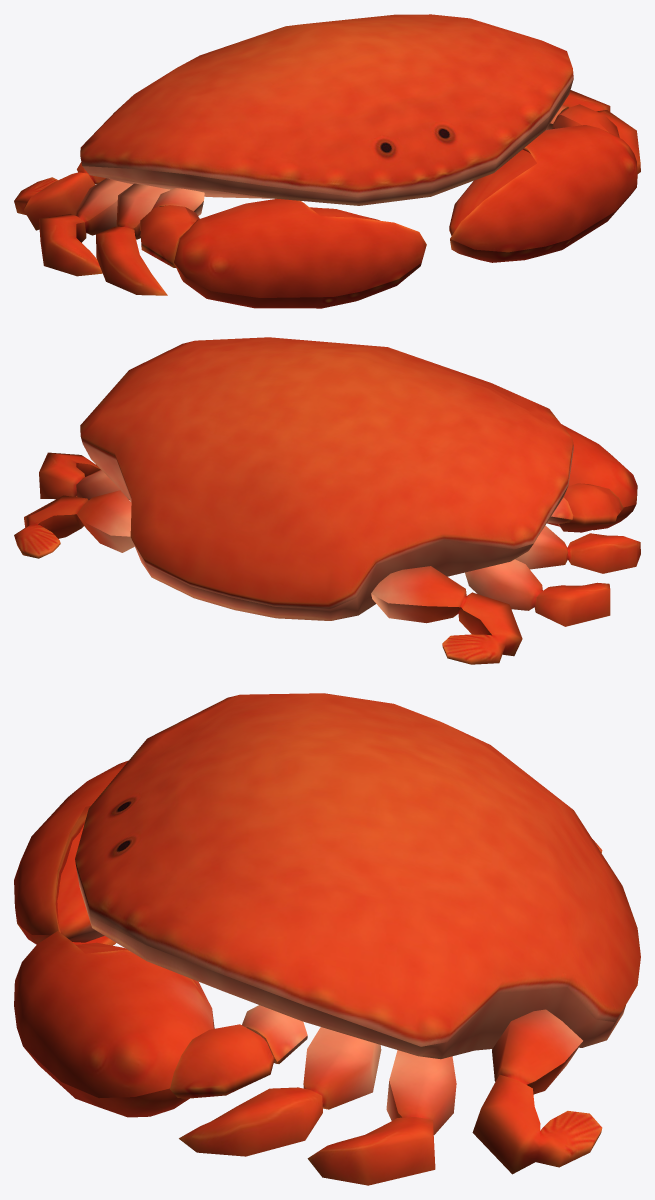
Rendered from SteamCrab_1.fbx.
The picture shows the model from 3 angles, top to bottom: view 1: azimuth 30°, elevation 25°; view 2: azimuth 150°, elevation 25°; view 3: azimuth 270°, elevation 25°; orthographic projection. The views are drawn at different scales.
Visible parts, largest first — view 1: SteamCrab_1; view 2: SteamCrab_1; view 3: SteamCrab_1.
Boxes of the visible parts, x1,y1,x2,y2 form: SteamCrab_1: (14, 14, 640, 308); SteamCrab_1: (14, 337, 640, 664); SteamCrab_1: (14, 693, 640, 1185).
Size of the model in its own units: 110 by 34.35 by 76.3.
Materials: 1 (1 with a texture image).
